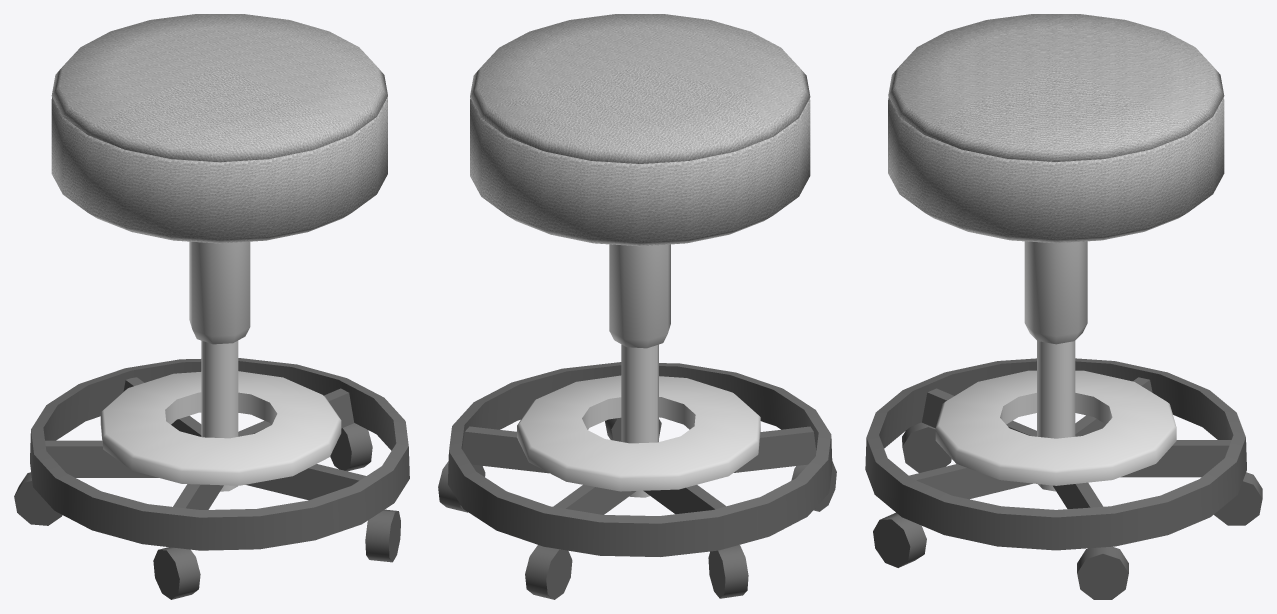
File: Stool.fbx
The picture shows the model from 3 angles, left to right: view 1: azimuth 30°, elevation 25°; view 2: azimuth 150°, elevation 25°; view 3: azimuth 270°, elevation 25°; orthographic projection.
Visible parts, largest first — view 1: Stool; view 2: Stool; view 3: Stool.
Boxes of the visible parts, x1,y1,x2,y2 form: Stool: [14, 14, 409, 599]; Stool: [438, 14, 836, 599]; Stool: [865, 14, 1262, 599].
Bounding box in the file's own units: 41.62 × 54.66 × 43.31.
